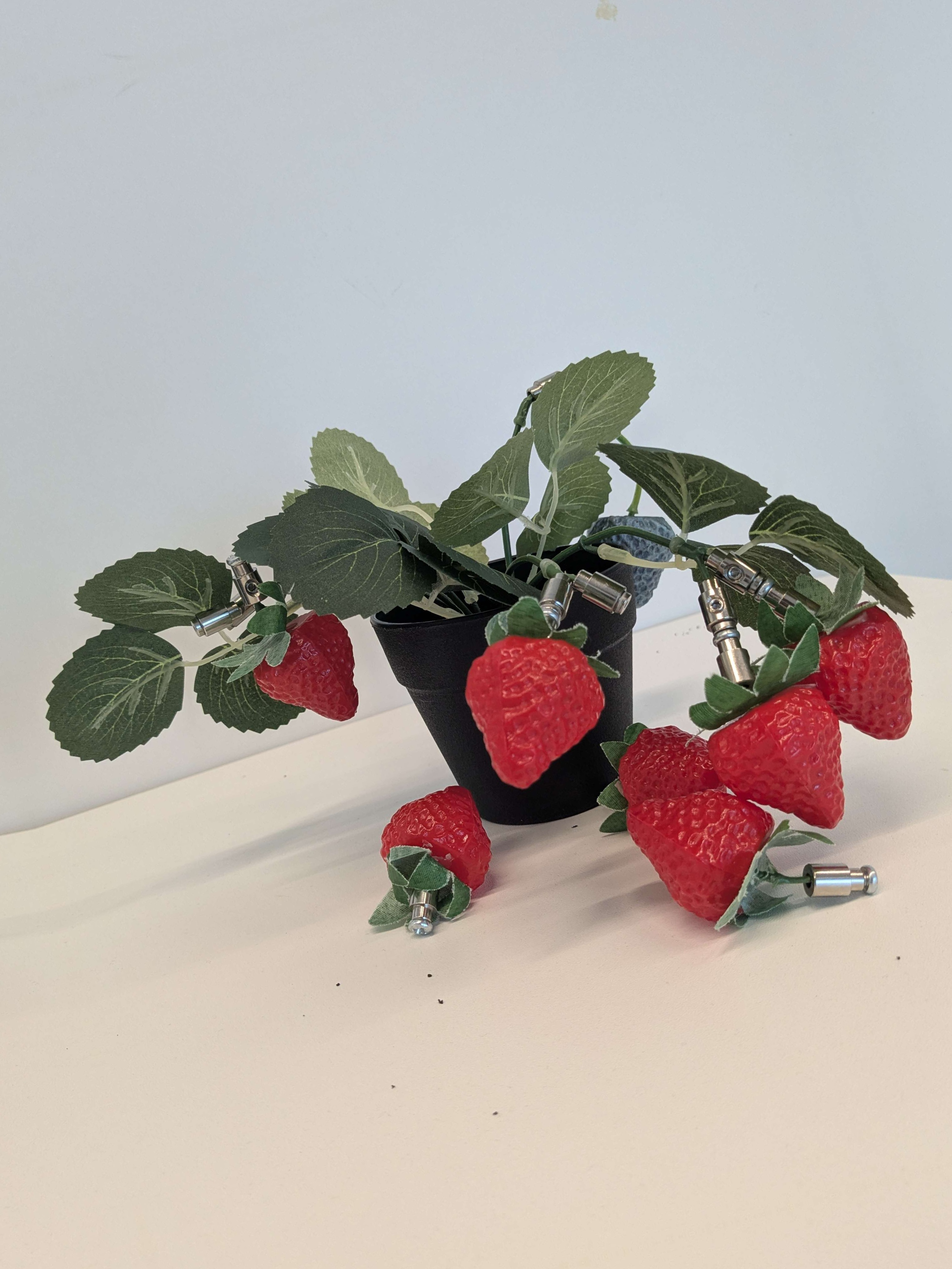Strawberry: (433, 583, 643, 799), (608, 765, 802, 942), (760, 579, 937, 767), (695, 665, 872, 851), (352, 762, 514, 923), (235, 599, 380, 743), (595, 708, 740, 826)
